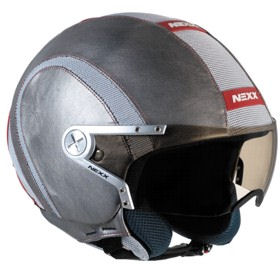helmet: (21, 18, 270, 259)
